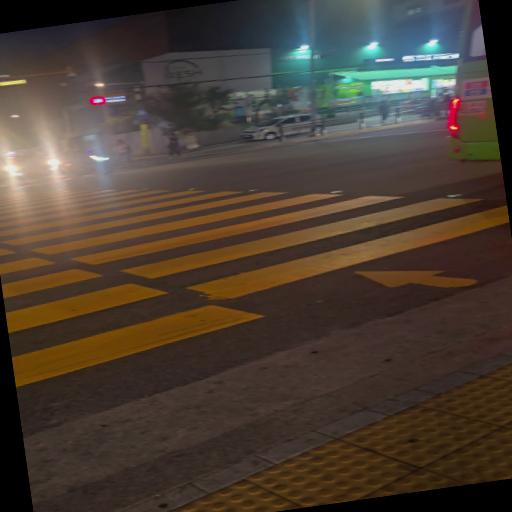yellow-crosswalk: (0, 119, 512, 402)
